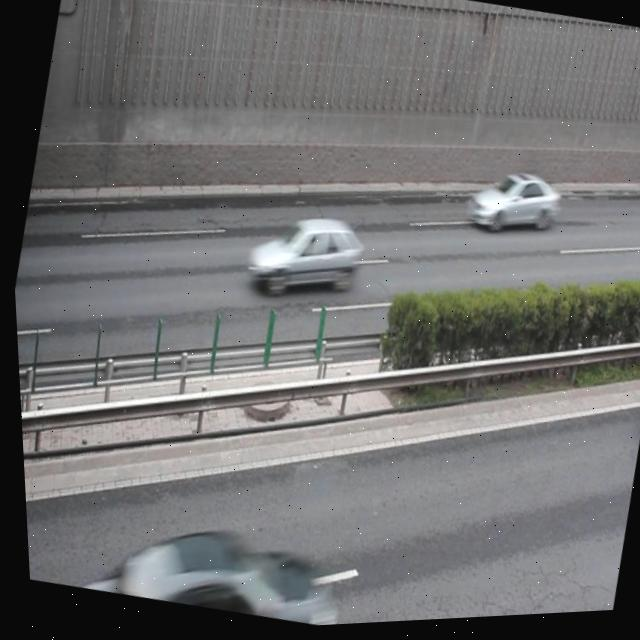car: (65, 495, 335, 638), (235, 202, 367, 312), (458, 161, 563, 248)
